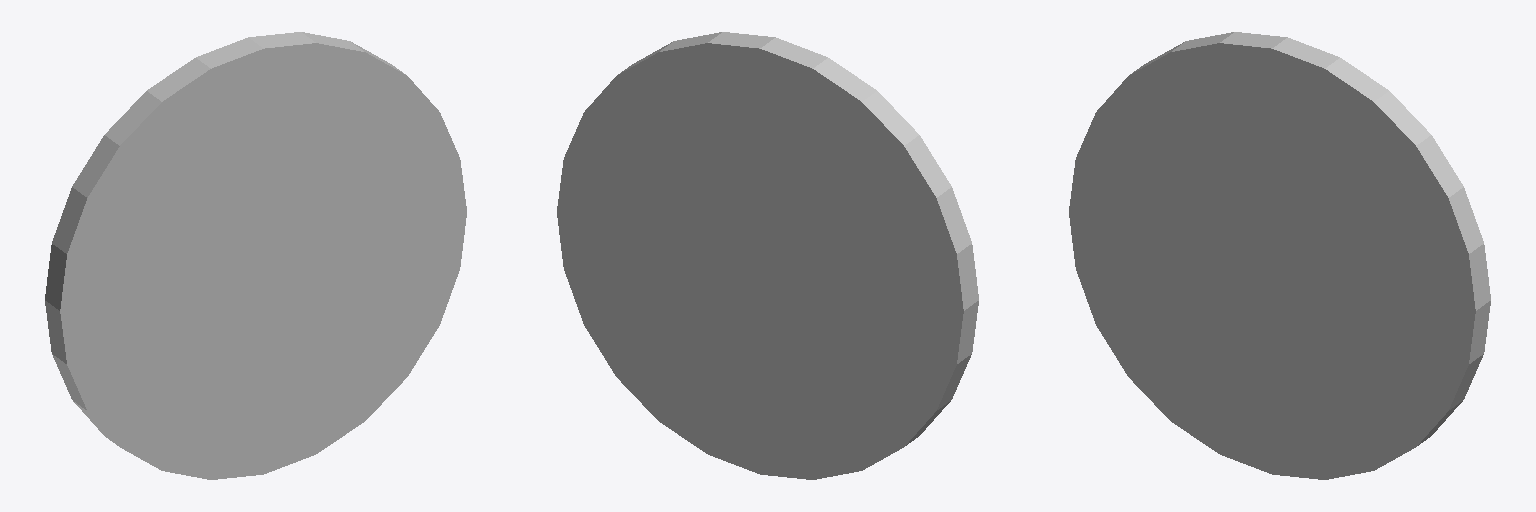
The model's file is coin.obj.
3 views of the same model, side by side, from view 1: azimuth 30°, elevation 25°; view 2: azimuth 150°, elevation 25°; view 3: azimuth 330°, elevation 25° (orthographic).
Parts seen in each view (by area): view 1: Cylinder; view 2: Cylinder; view 3: Cylinder.
Boxes of the visible parts, box(x1,y1,x2,y2) form: Cylinder: box(45, 32, 466, 479); Cylinder: box(557, 32, 978, 479); Cylinder: box(1069, 32, 1490, 479).
Bounding box in the file's own units: 2 × 2 × 0.1315.